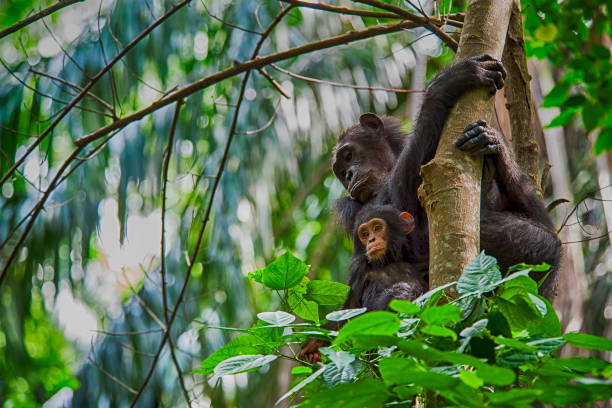chimpanzee: (323, 113, 406, 200), (339, 198, 407, 280)
